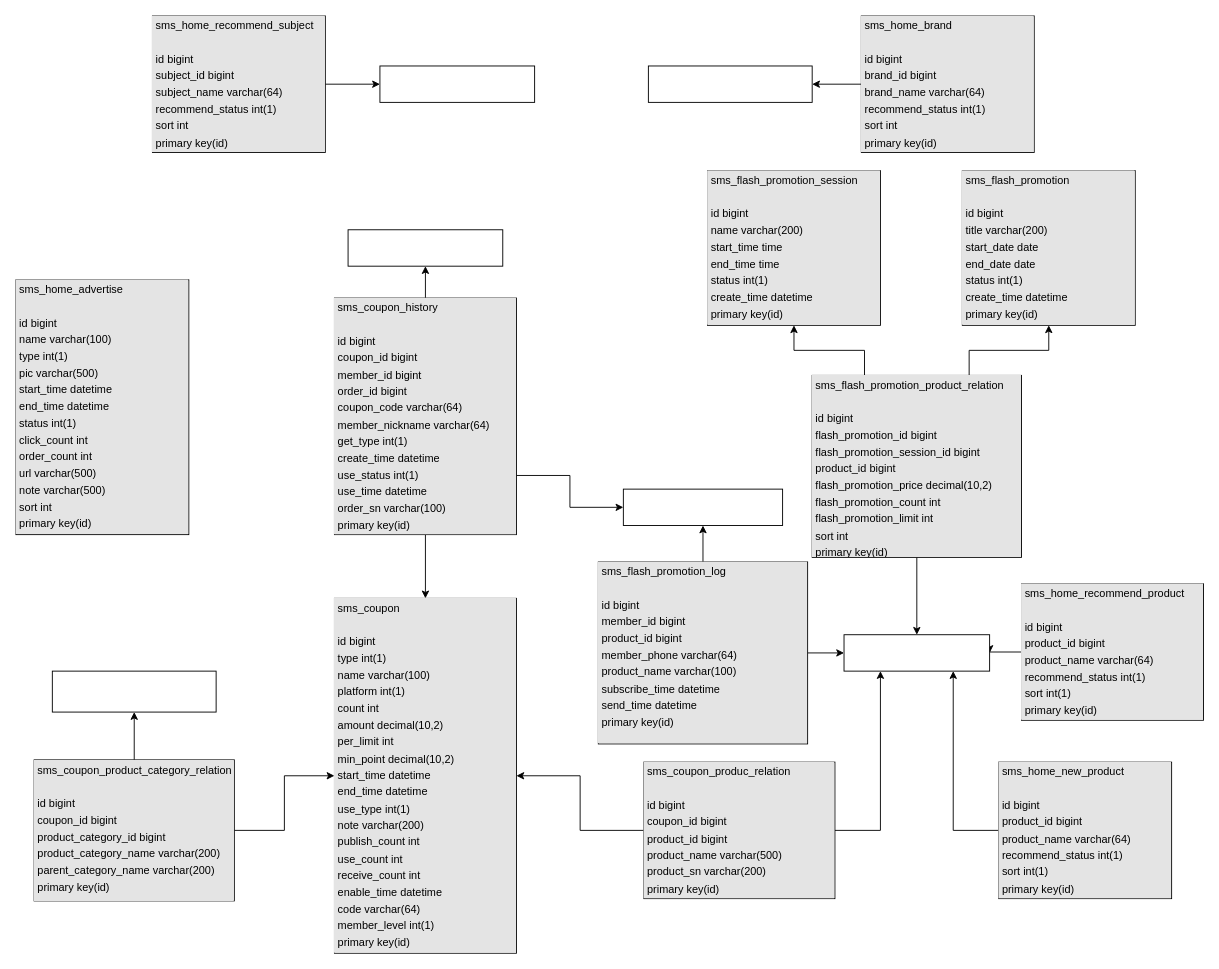
The diagram is 1219 pixels wide and 969 high, and some of its shapes have lost their labels. Here are the shapes that lost their labels. From the top down, the centre of each, then its label:
At (457,83): "cms_subject".
At (729,83): "pms_brand".
At (425,247): "oms_order".
At (702,507): "ums_member".
At (916,652): "pms_product".
At (133,691): "pms_product_category".
